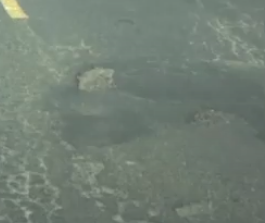Berlubang: (63, 61, 129, 103), (163, 191, 220, 223)
